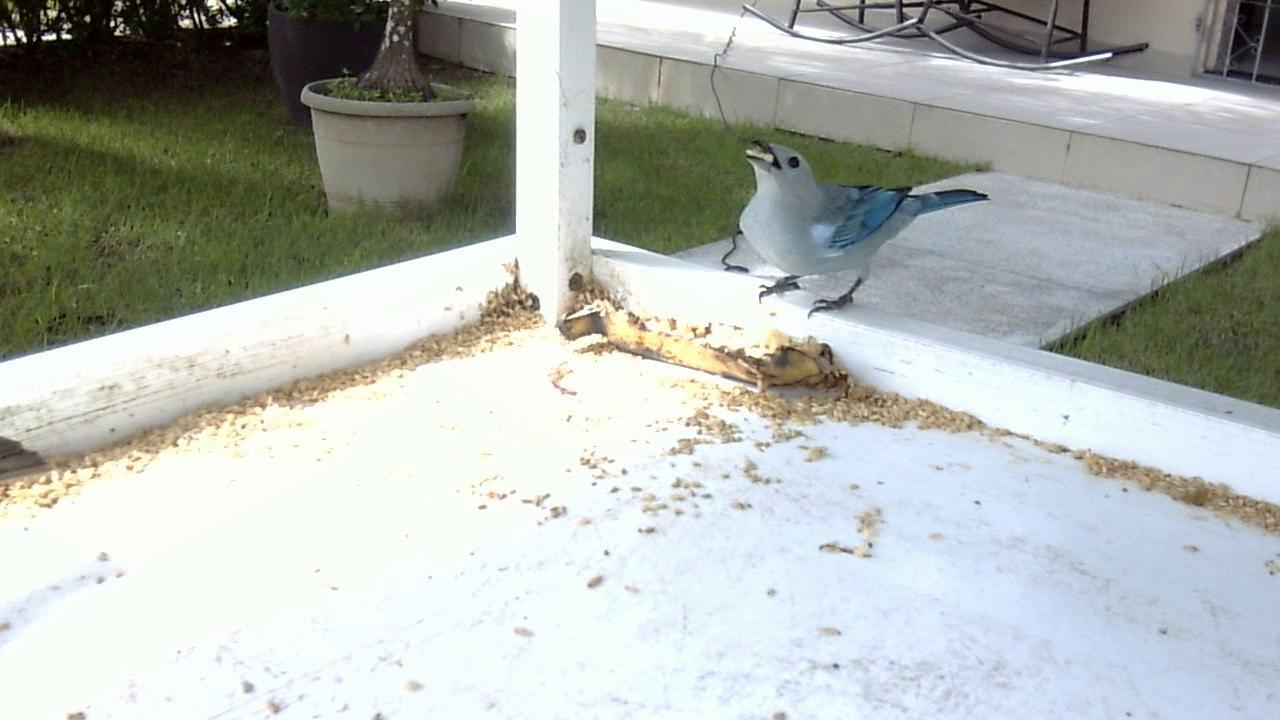sanhaco_da_amazonia: (714, 132, 999, 322)
